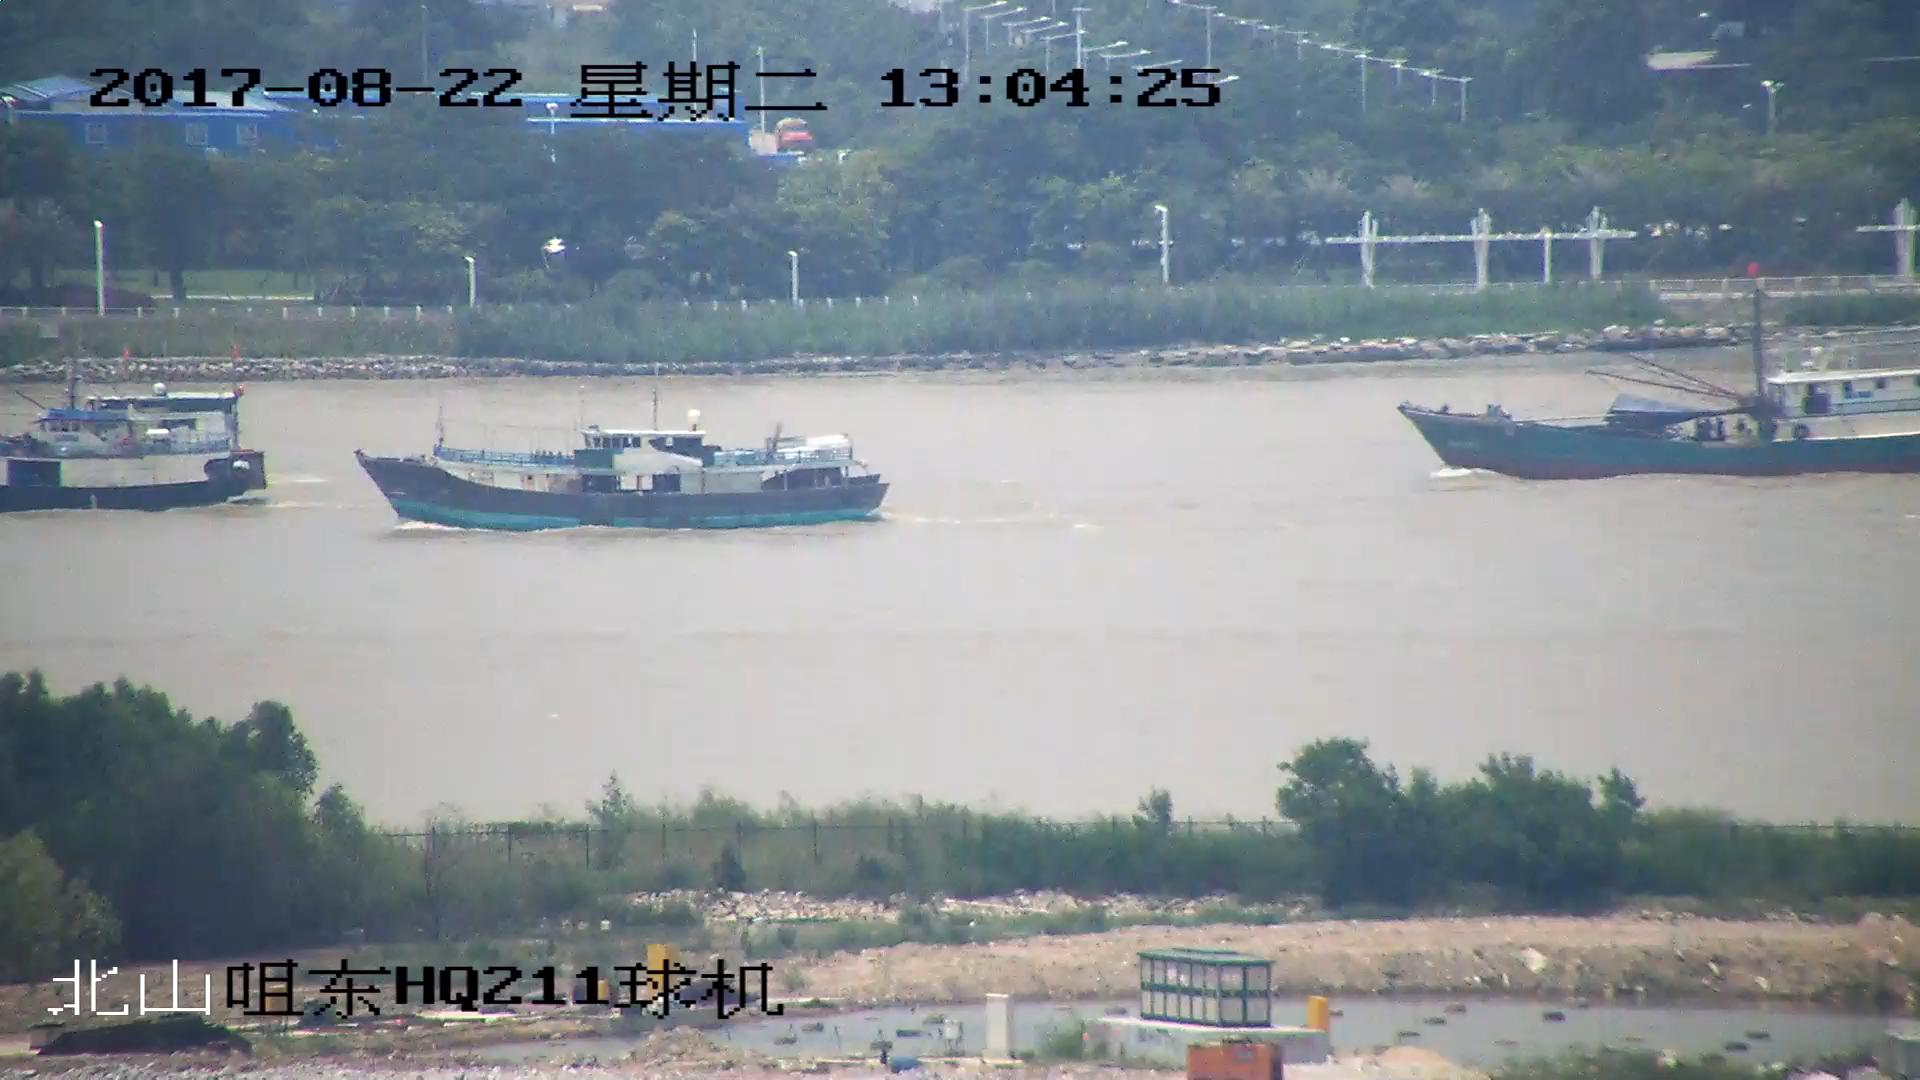fishing boat: (1399, 290, 1920, 479), (355, 414, 885, 529), (1, 375, 276, 510)
